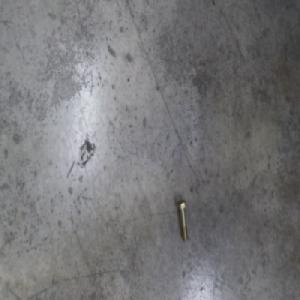Bolt: (173, 199, 186, 243)
